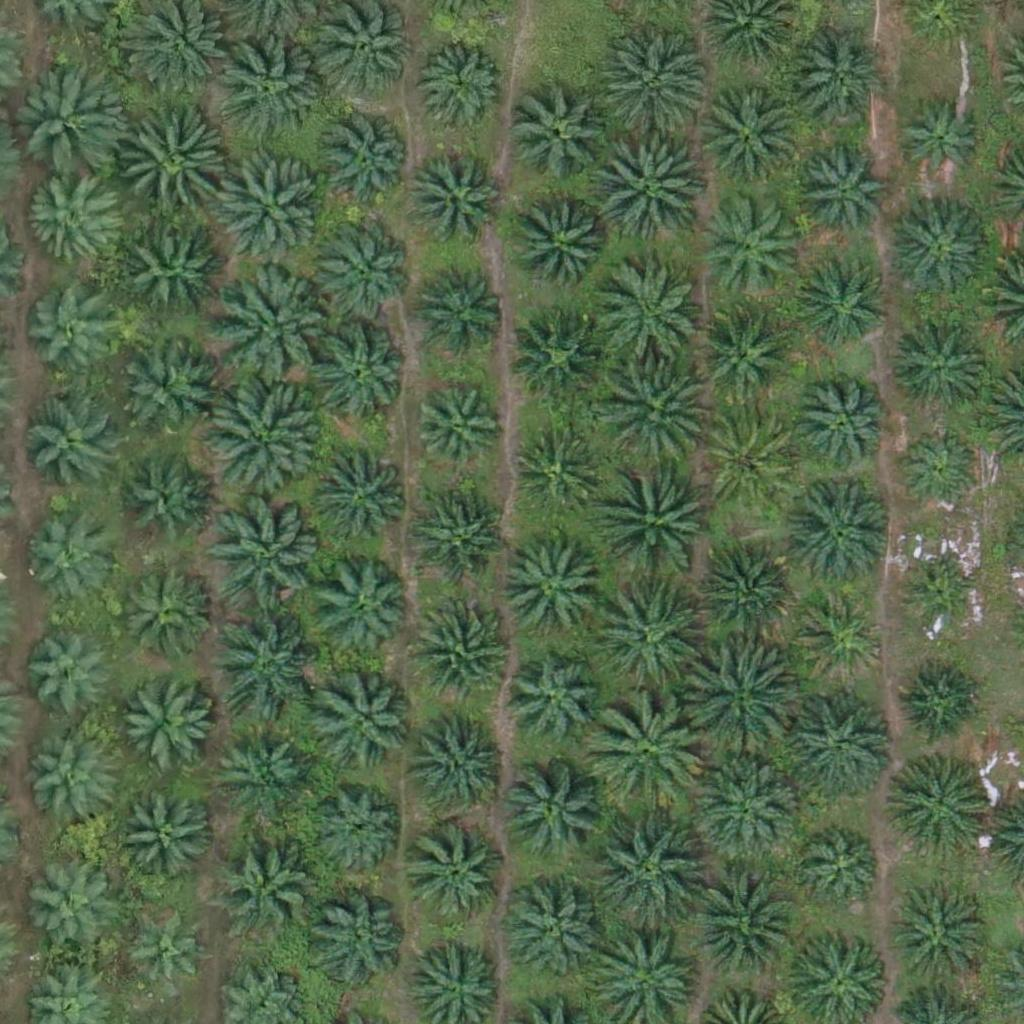Kelapa_Sawit: (213, 32, 326, 146), (588, 582, 701, 696), (597, 354, 710, 468), (594, 26, 707, 139), (592, 813, 705, 926), (591, 262, 704, 375), (597, 133, 710, 246), (205, 382, 318, 495), (218, 266, 331, 379), (209, 152, 322, 265), (693, 750, 805, 864), (599, 457, 711, 571), (113, 111, 225, 224), (206, 609, 318, 722), (590, 696, 702, 809), (680, 644, 792, 757), (685, 865, 797, 978), (783, 685, 895, 798), (782, 475, 894, 588), (212, 498, 324, 611), (106, 334, 218, 447), (9, 65, 109, 166), (509, 83, 609, 184), (794, 27, 894, 128), (20, 854, 120, 955), (115, 788, 215, 889), (117, 669, 217, 770), (113, 560, 213, 661), (212, 721, 312, 822), (215, 832, 315, 933), (309, 555, 409, 656), (407, 823, 507, 924), (408, 599, 508, 700), (505, 650, 605, 751), (503, 760, 603, 861), (891, 891, 991, 992), (887, 202, 987, 303), (889, 315, 989, 416), (791, 374, 891, 475), (697, 192, 797, 293), (694, 302, 794, 403), (410, 487, 510, 588), (309, 320, 409, 421), (307, 446, 407, 547), (127, 226, 227, 327), (19, 394, 119, 495), (25, 283, 125, 384), (312, 115, 412, 215), (701, 85, 801, 185), (314, 674, 414, 774), (305, 891, 405, 991), (415, 710, 515, 810), (499, 541, 599, 641), (502, 878, 602, 978), (695, 545, 795, 645), (888, 753, 988, 853), (700, 411, 800, 511), (511, 193, 611, 293), (511, 307, 611, 407), (414, 258, 514, 358), (406, 149, 506, 249), (315, 222, 415, 322), (416, 36, 504, 124), (25, 630, 113, 718), (25, 737, 113, 825), (894, 428, 982, 516), (797, 260, 885, 348), (796, 151, 884, 239), (510, 426, 598, 514), (412, 388, 500, 476), (120, 455, 208, 543), (27, 178, 115, 266), (118, 907, 205, 996), (893, 98, 980, 186), (797, 593, 884, 681), (314, 785, 401, 873), (801, 827, 888, 915), (896, 657, 983, 745), (18, 519, 105, 607), (906, 563, 981, 638)
